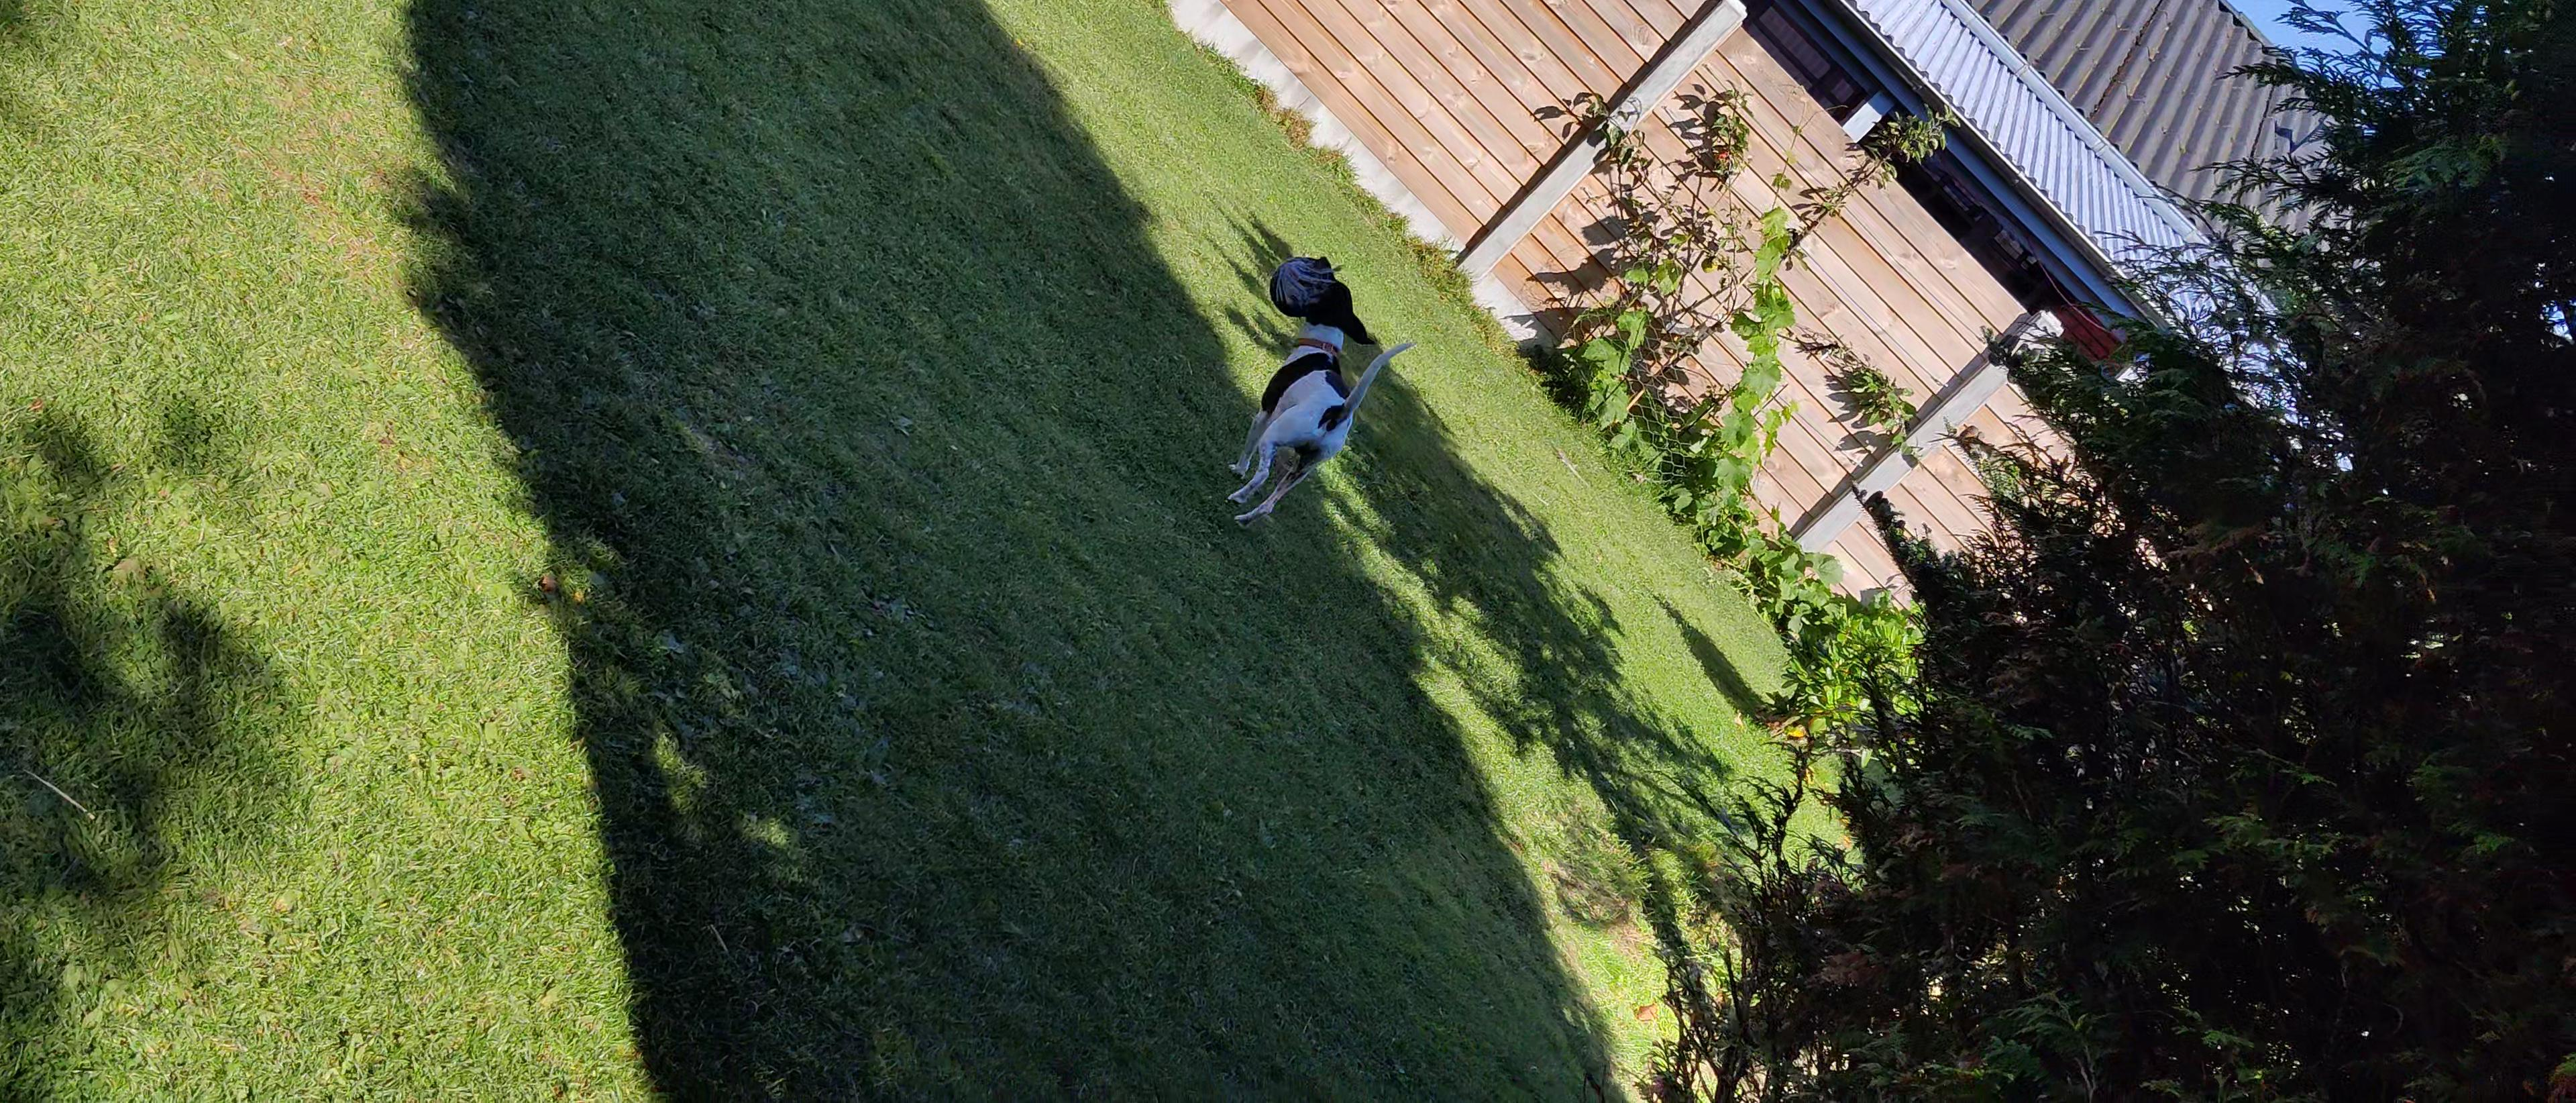Dog: (1222, 235, 1419, 534)
